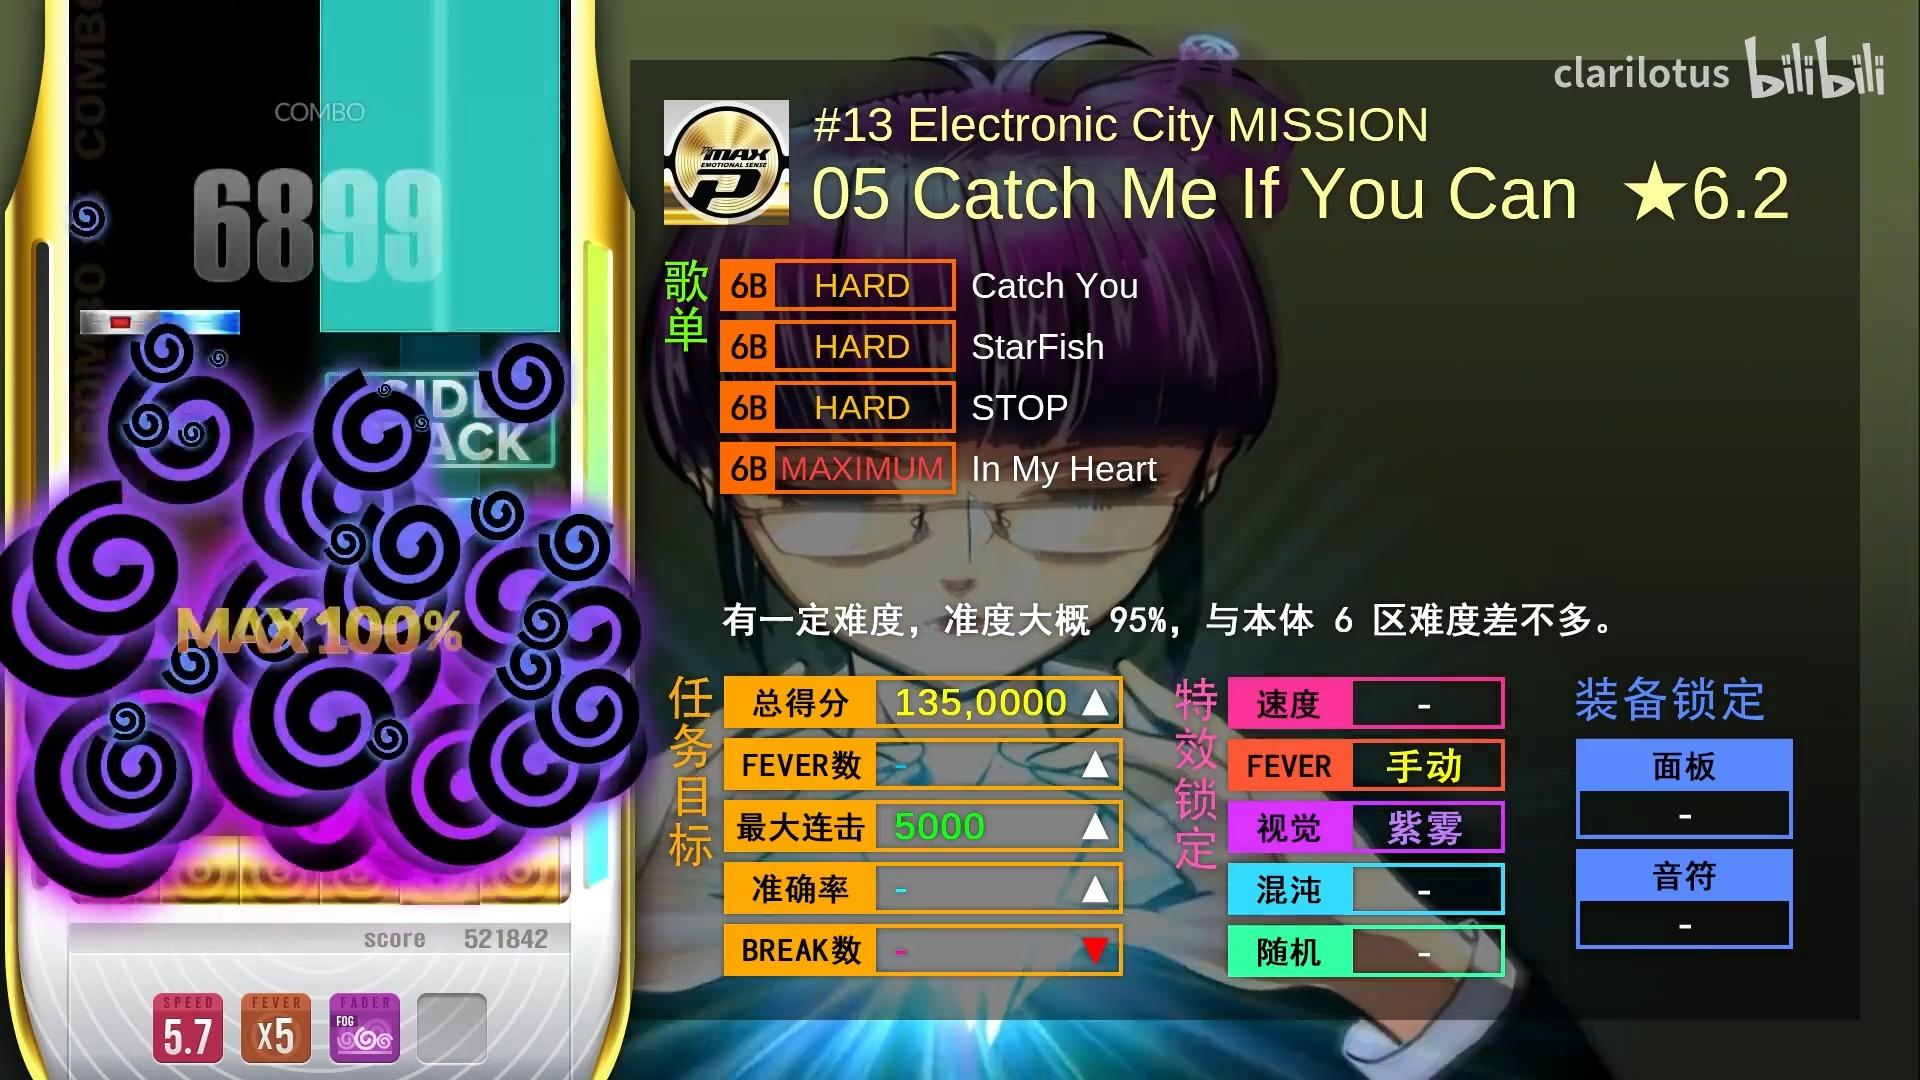note: (79, 310, 164, 335)
side-start: (319, 299, 560, 332)
